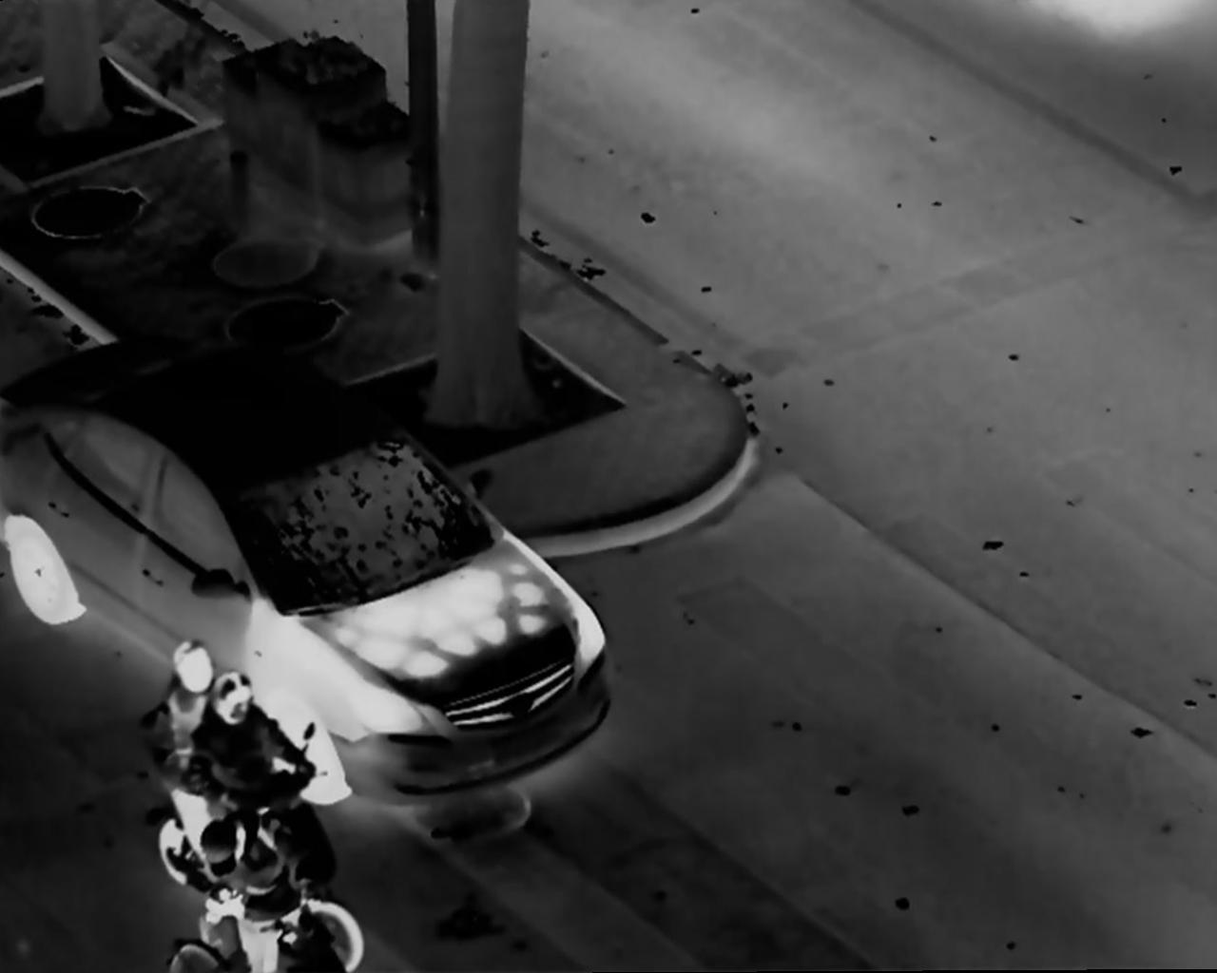person: (191, 671, 321, 875), (190, 815, 327, 969), (141, 633, 220, 858)
